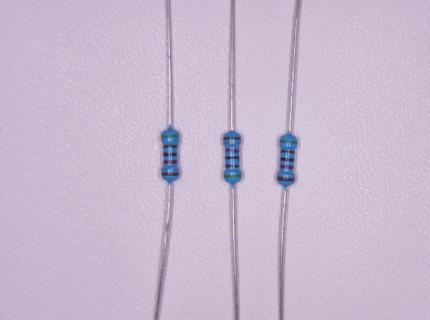Black band: (163, 152, 178, 157), (280, 157, 295, 162), (225, 156, 240, 160)
Brown band: (161, 171, 180, 177), (277, 176, 295, 182), (163, 144, 178, 149), (280, 149, 295, 154), (223, 136, 241, 140), (225, 164, 240, 168)
Green band: (280, 140, 298, 145), (223, 174, 242, 178), (161, 135, 179, 138)
Red band: (280, 164, 294, 170), (225, 148, 240, 153), (163, 160, 178, 164)
